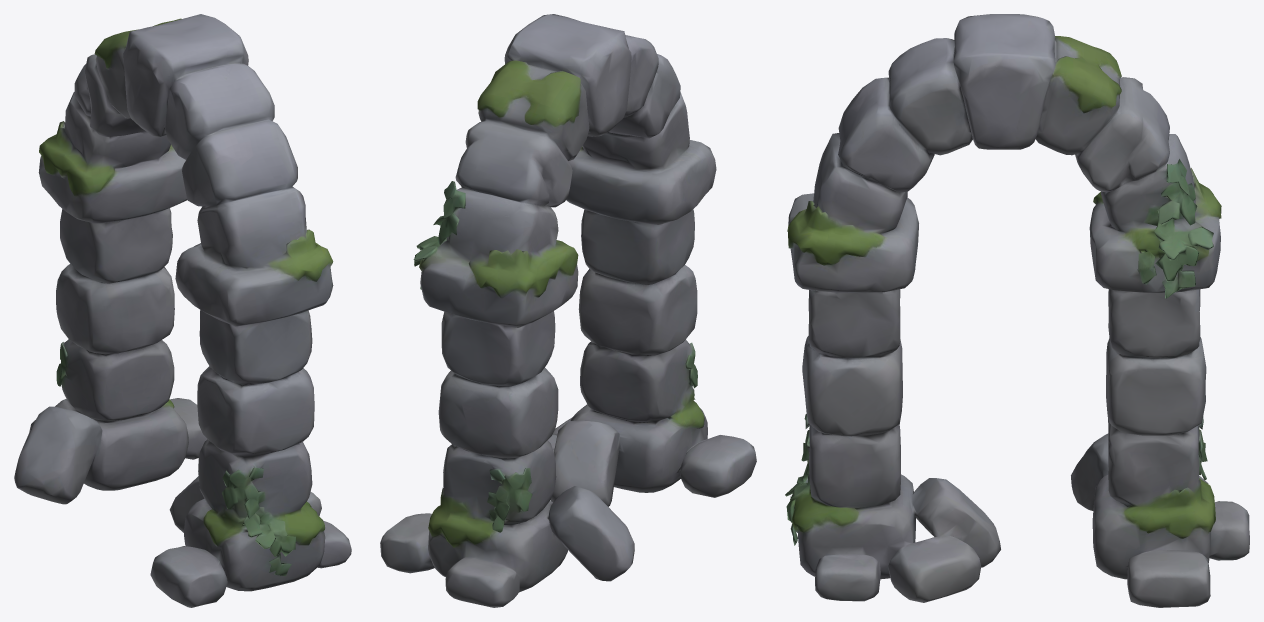
The model's file is pro_arch-BHPzQRcs.glb.
3 renders of one model, left to right at view 1: azimuth 30°, elevation 25°; view 2: azimuth 150°, elevation 25°; view 3: azimuth 270°, elevation 25°, orthographic. The views are drawn at different scales.
Parts seen in each view (by area): view 1: tripo_node_50807b30-cc85-4e84-a89d-887e3baafef6; view 2: tripo_node_50807b30-cc85-4e84-a89d-887e3baafef6; view 3: tripo_node_50807b30-cc85-4e84-a89d-887e3baafef6.
Boxes of the visible parts, x1=… form: tripo_node_50807b30-cc85-4e84-a89d-887e3baafef6: x1=14, y1=14, x2=351, y2=607; tripo_node_50807b30-cc85-4e84-a89d-887e3baafef6: x1=380, y1=14, x2=756, y2=607; tripo_node_50807b30-cc85-4e84-a89d-887e3baafef6: x1=785, y1=14, x2=1249, y2=607.
Bounding box in the file's own units: 0.4522 × 1 × 0.7963.
Materials: 1 (1 with a texture image).
